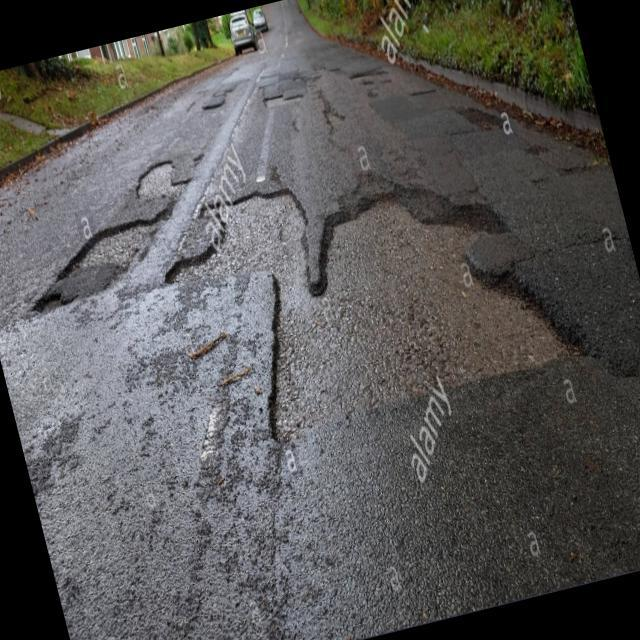Pothole: (140, 102, 614, 544), (54, 199, 184, 288), (124, 141, 199, 215), (20, 277, 80, 335), (256, 73, 308, 123)
